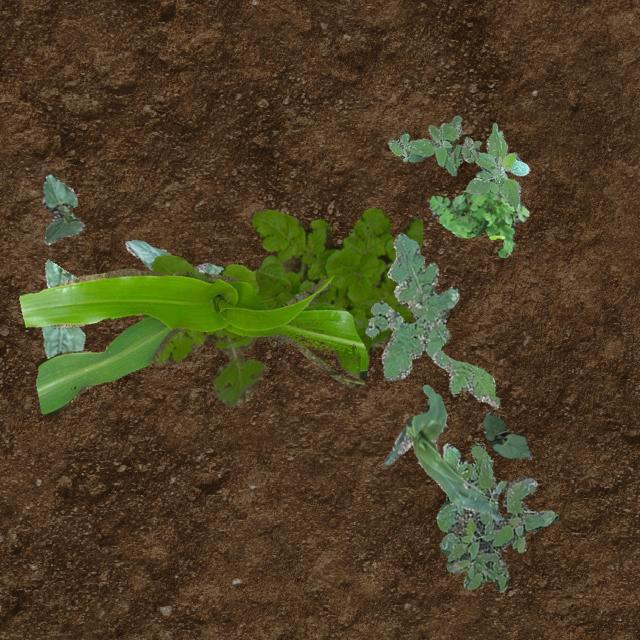crop: (18, 268, 368, 416), (382, 384, 503, 520), (466, 121, 528, 206), (40, 258, 84, 358), (124, 238, 224, 274), (41, 172, 84, 244), (482, 411, 532, 458)
weed: (150, 206, 422, 406), (364, 232, 498, 406), (436, 442, 558, 590), (428, 188, 528, 256), (386, 114, 479, 174)
